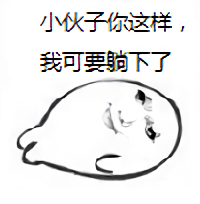dragon: (102, 89, 162, 142)
